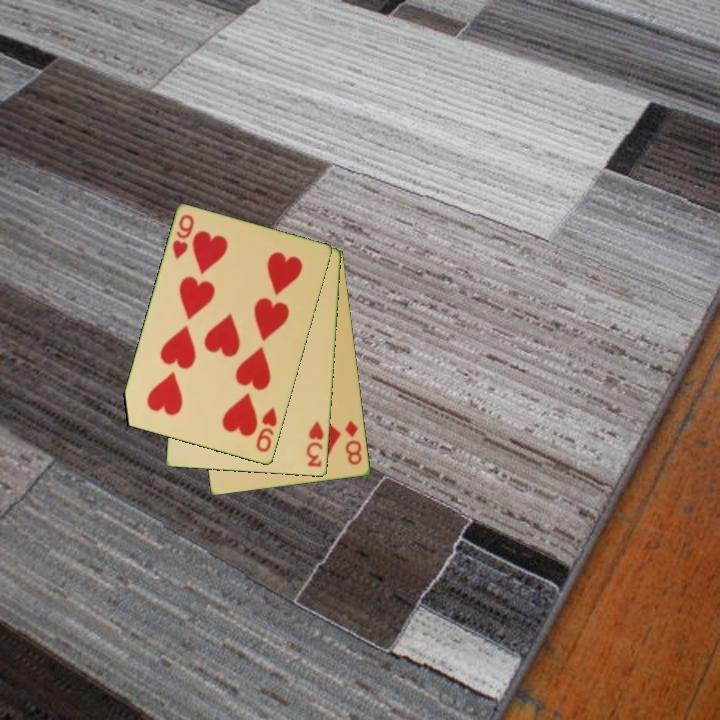3h: (303, 418, 327, 470)
8d: (341, 417, 365, 468)
9h: (169, 211, 197, 263), (253, 404, 280, 456)
